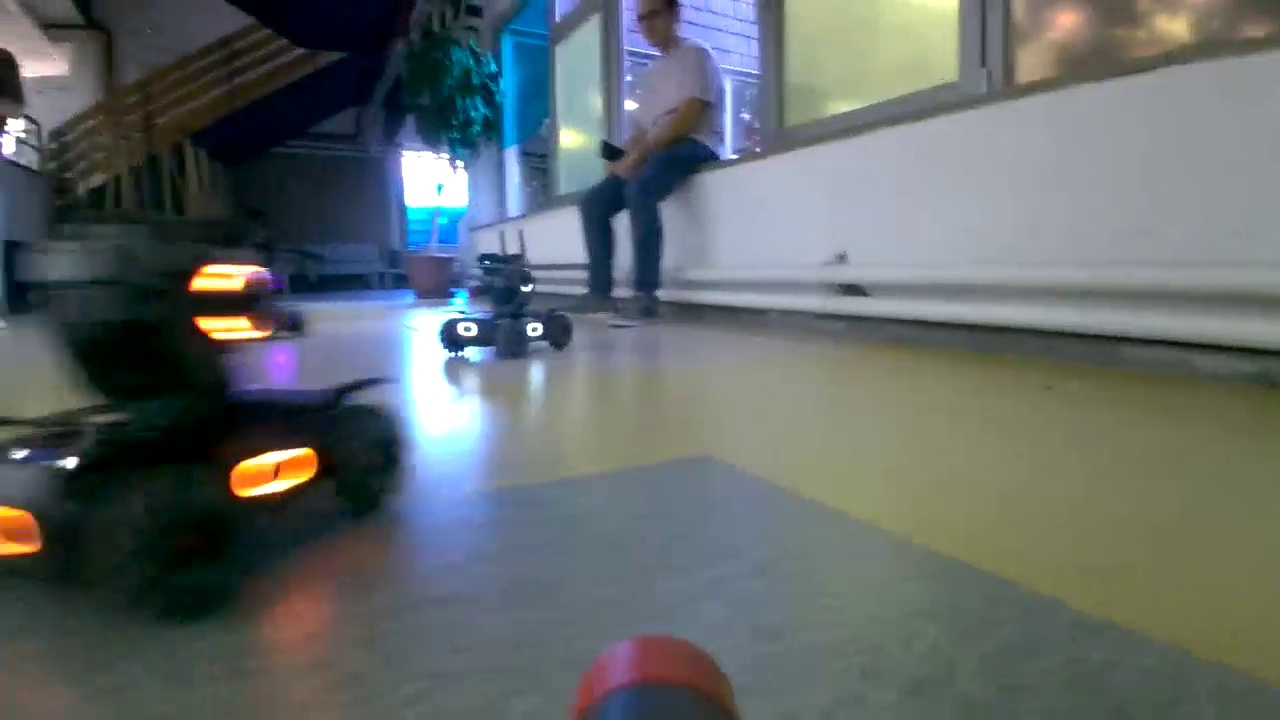robot: (6, 228, 397, 593), (440, 248, 573, 361)
